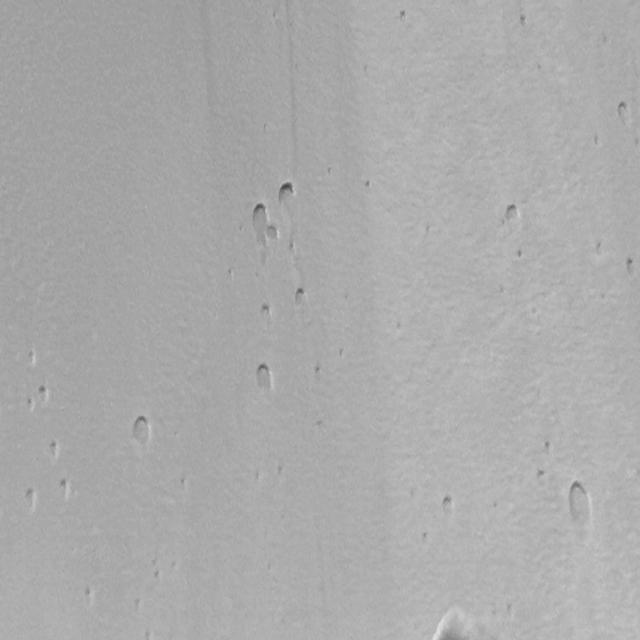pin holes: (561, 476, 597, 541), (244, 203, 272, 244), (437, 611, 472, 640), (250, 361, 278, 397), (130, 414, 155, 448), (501, 202, 523, 231), (616, 99, 635, 127), (275, 180, 296, 205), (439, 491, 458, 518), (22, 484, 40, 512), (56, 475, 72, 502), (34, 384, 52, 408), (176, 474, 193, 499), (45, 439, 63, 462), (623, 255, 640, 279), (258, 302, 276, 324), (294, 286, 310, 310), (265, 224, 283, 245), (80, 585, 97, 607), (592, 238, 609, 260), (535, 467, 552, 487), (25, 347, 39, 367), (504, 601, 518, 621), (398, 8, 412, 27), (543, 438, 556, 458), (518, 12, 532, 30), (24, 396, 37, 415), (288, 238, 300, 258), (590, 132, 604, 148), (362, 179, 376, 195), (152, 569, 166, 585), (418, 531, 431, 548), (253, 470, 266, 487), (312, 364, 324, 381), (514, 246, 527, 261), (132, 596, 143, 613), (275, 464, 286, 480), (337, 345, 348, 360), (631, 134, 639, 152), (316, 421, 325, 436), (142, 628, 154, 639), (326, 166, 336, 178)
